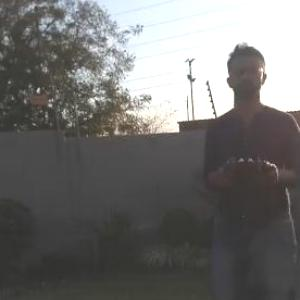follow: (201, 36, 300, 299)
